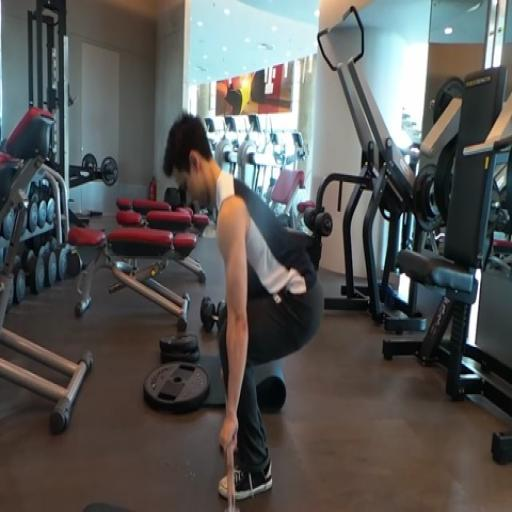exercise: (160, 110, 327, 504)
